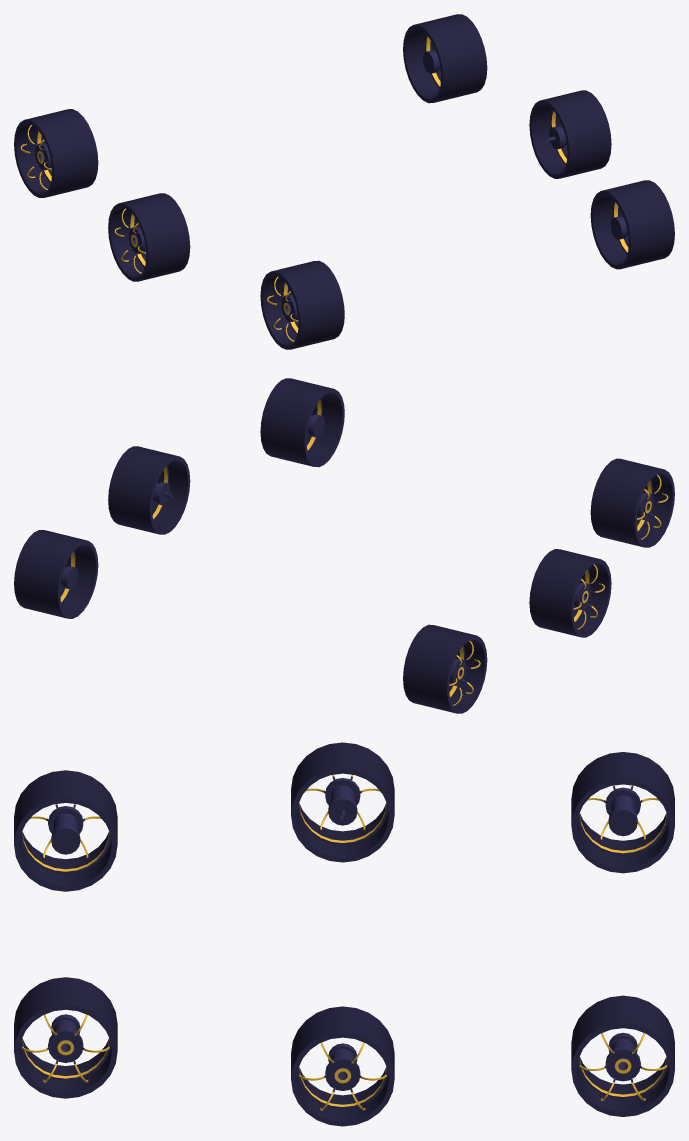
File: Wheels Heavy-Duty.fbx
3 renders of one model, top to bottom at view 1: azimuth 30°, elevation 25°; view 2: azimuth 150°, elevation 25°; view 3: azimuth 270°, elevation 25°, orthographic. The views are drawn at different scales.
Visible parts, largest first — view 1: LF.003, RF.003, LR.003, RR.003, RM.003, LM.003; view 2: RF.003, LF.003, RR.003, LR.003, LM.003, RM.003; view 3: RF.003, LF.003, LR.003, RR.003, RM.003, LM.003.
Boxes of the visible parts, box(x1,y1,x2,y2) form: LF.003: box(590, 180, 674, 269); RF.003: box(260, 260, 344, 349); LR.003: box(403, 14, 487, 103); RR.003: box(14, 109, 98, 197); RM.003: box(108, 193, 190, 281); LM.003: box(529, 90, 611, 178); RF.003: box(590, 458, 674, 547); LF.003: box(260, 378, 344, 467); RR.003: box(403, 624, 487, 713); LR.003: box(14, 530, 98, 618); LM.003: box(108, 446, 190, 534); RM.003: box(529, 549, 611, 637); RF.003: box(14, 770, 117, 891); LF.003: box(14, 977, 117, 1098); LR.003: box(571, 995, 674, 1116); RR.003: box(571, 752, 674, 873); RM.003: box(291, 742, 394, 862); LM.003: box(291, 1006, 394, 1126).
Size of the model in its own units: 24.15 by 3.64 by 23.24.
